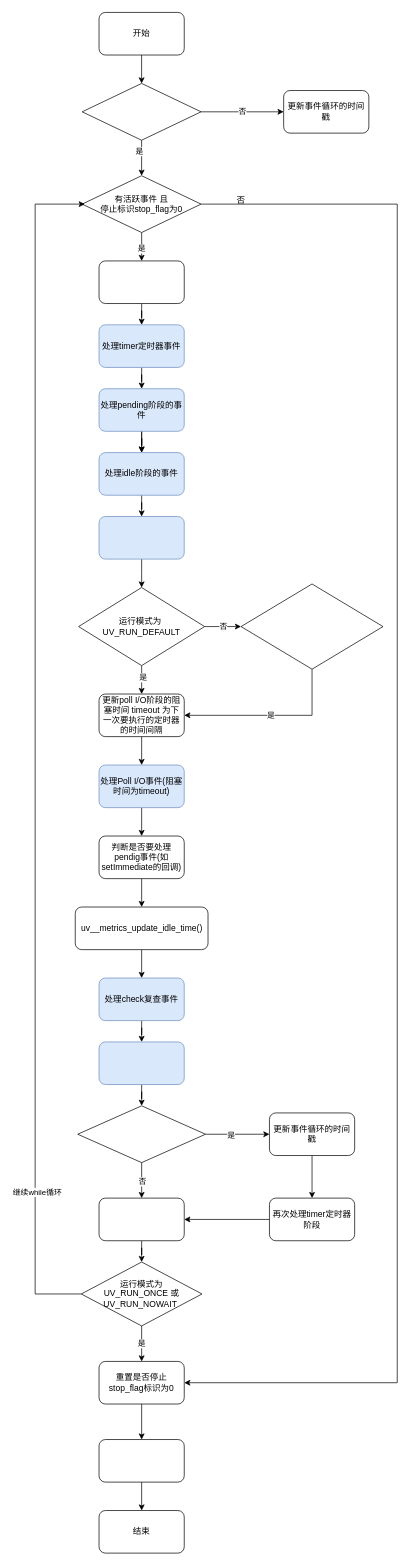
This 415x1566 diagram has some shape labels left out. The centre of each missing label's shape, as x and y in pixels:
处理close事件: point (141, 1063)
处理prepare阶段的事件: point (141, 537)
是否有活跃事件: point (141, 111)
更新时间循环的时间戳: point (141, 282)
获取是否有活跃事件: point (141, 1219)
运行模式为 UV_RUN_ONCE 且 pending队列为空 且 idle队列为空: point (311, 626)
运行模式为UV_RUN_ONCE （只执行一次）: point (141, 1134)
返回最后一个获取的是否有活跃事件标识: point (141, 1460)
